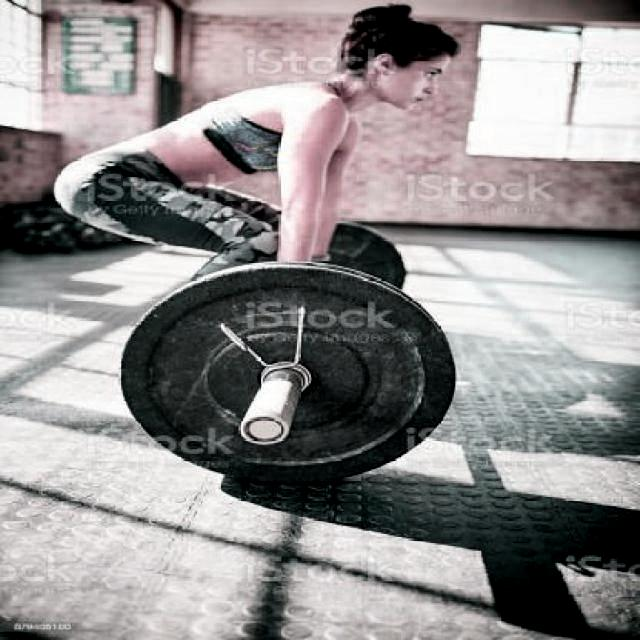barbell: (108, 255, 467, 495)
